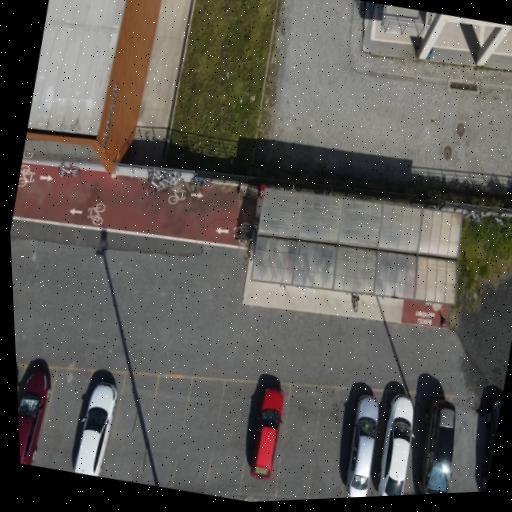car: (73, 382, 116, 476), (377, 395, 412, 495), (417, 399, 454, 493), (346, 395, 378, 496), (250, 388, 283, 479), (18, 372, 50, 464), (481, 400, 501, 491), (17, 373, 18, 378)
